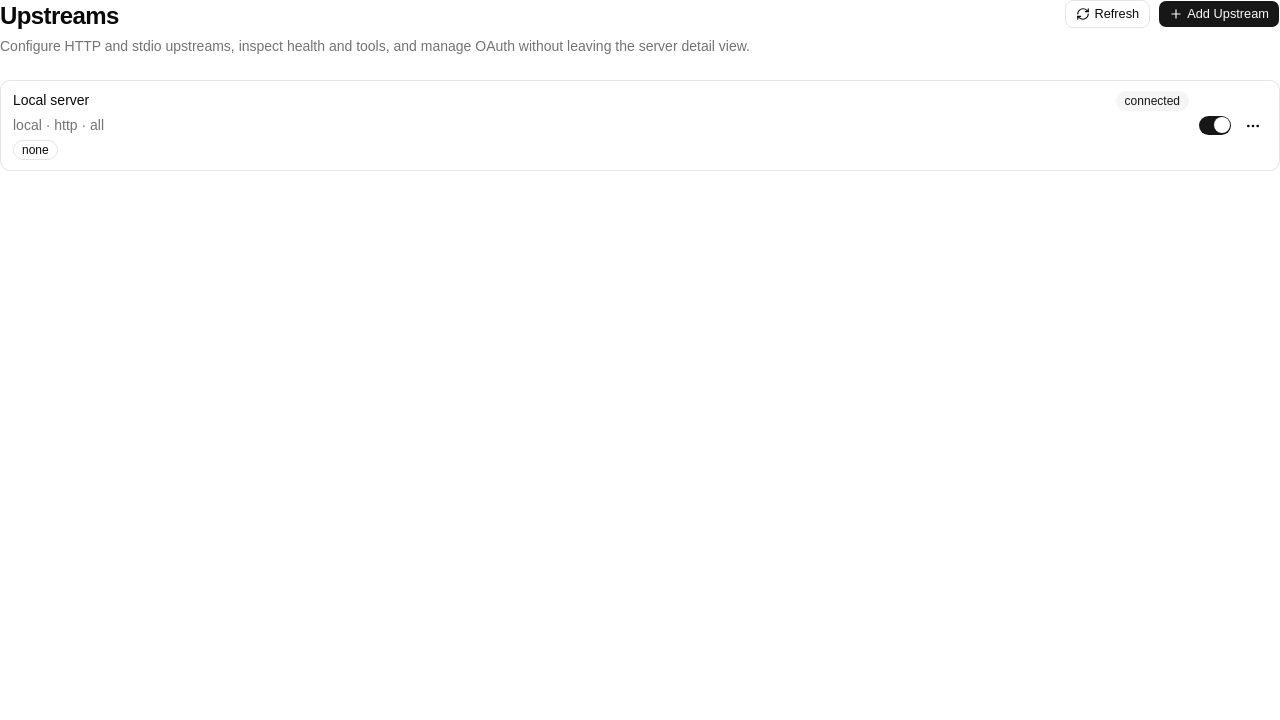
Test: servers page › keeps the page list-first and opens health/tools in server detail
Expected: the tab "Overview" is not shown
Click the text "Local server": point(51, 101) [13,91,89,111]
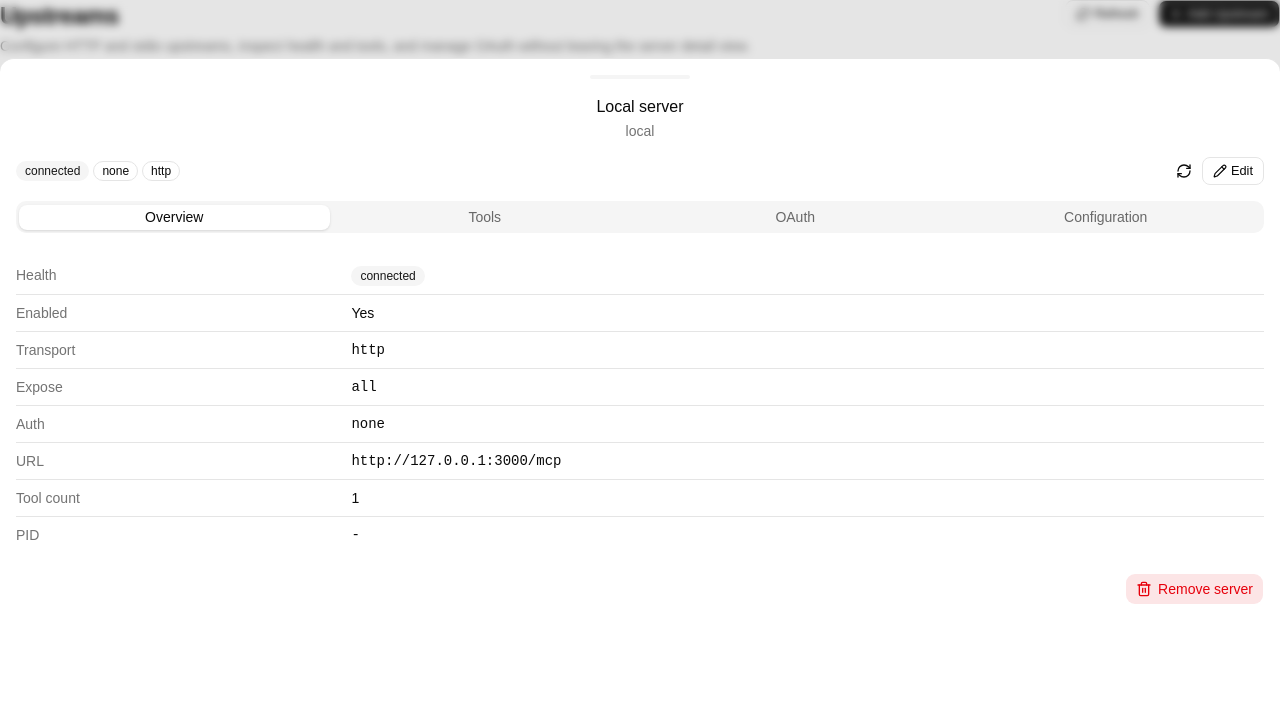
Result: the tab "Overview" is shown at [19,204,330,229]
Click the tab "Tools": point(485, 217) [330,204,640,229]
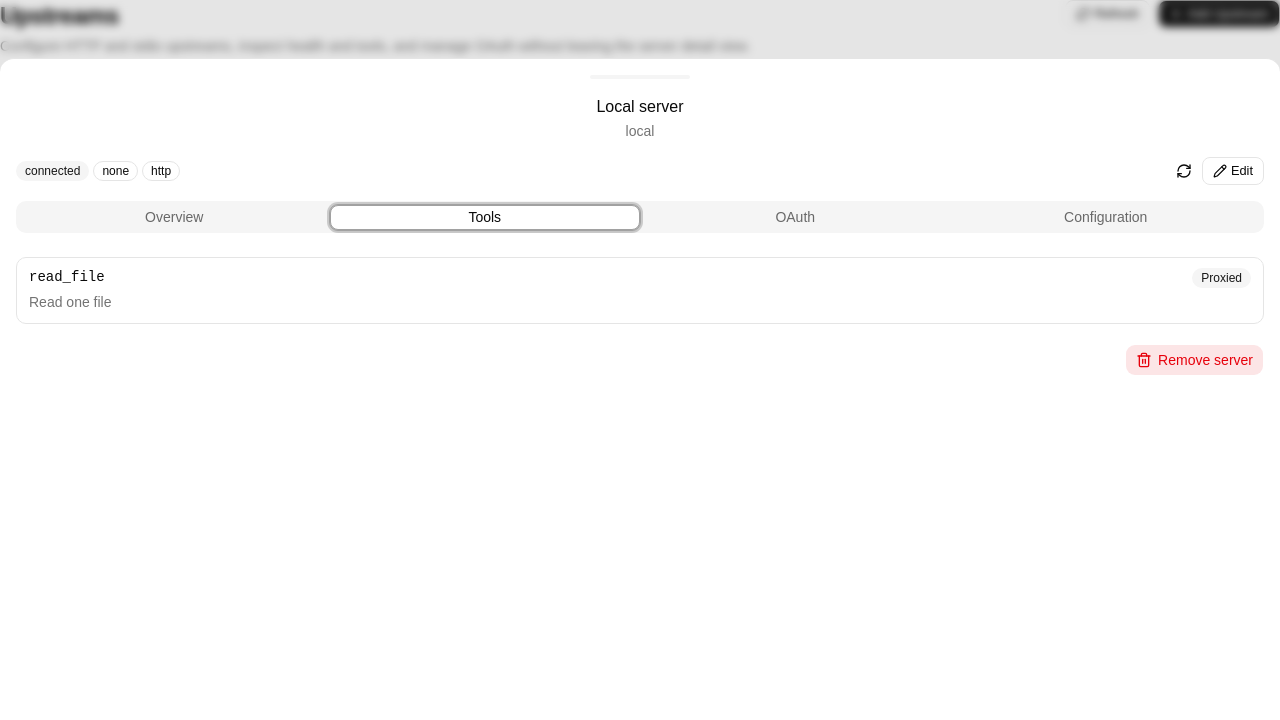
Result: the text "read_file" is shown at [29,268,105,287]
Result: the icon "Proxied" is shown at [1192,268,1251,288]
